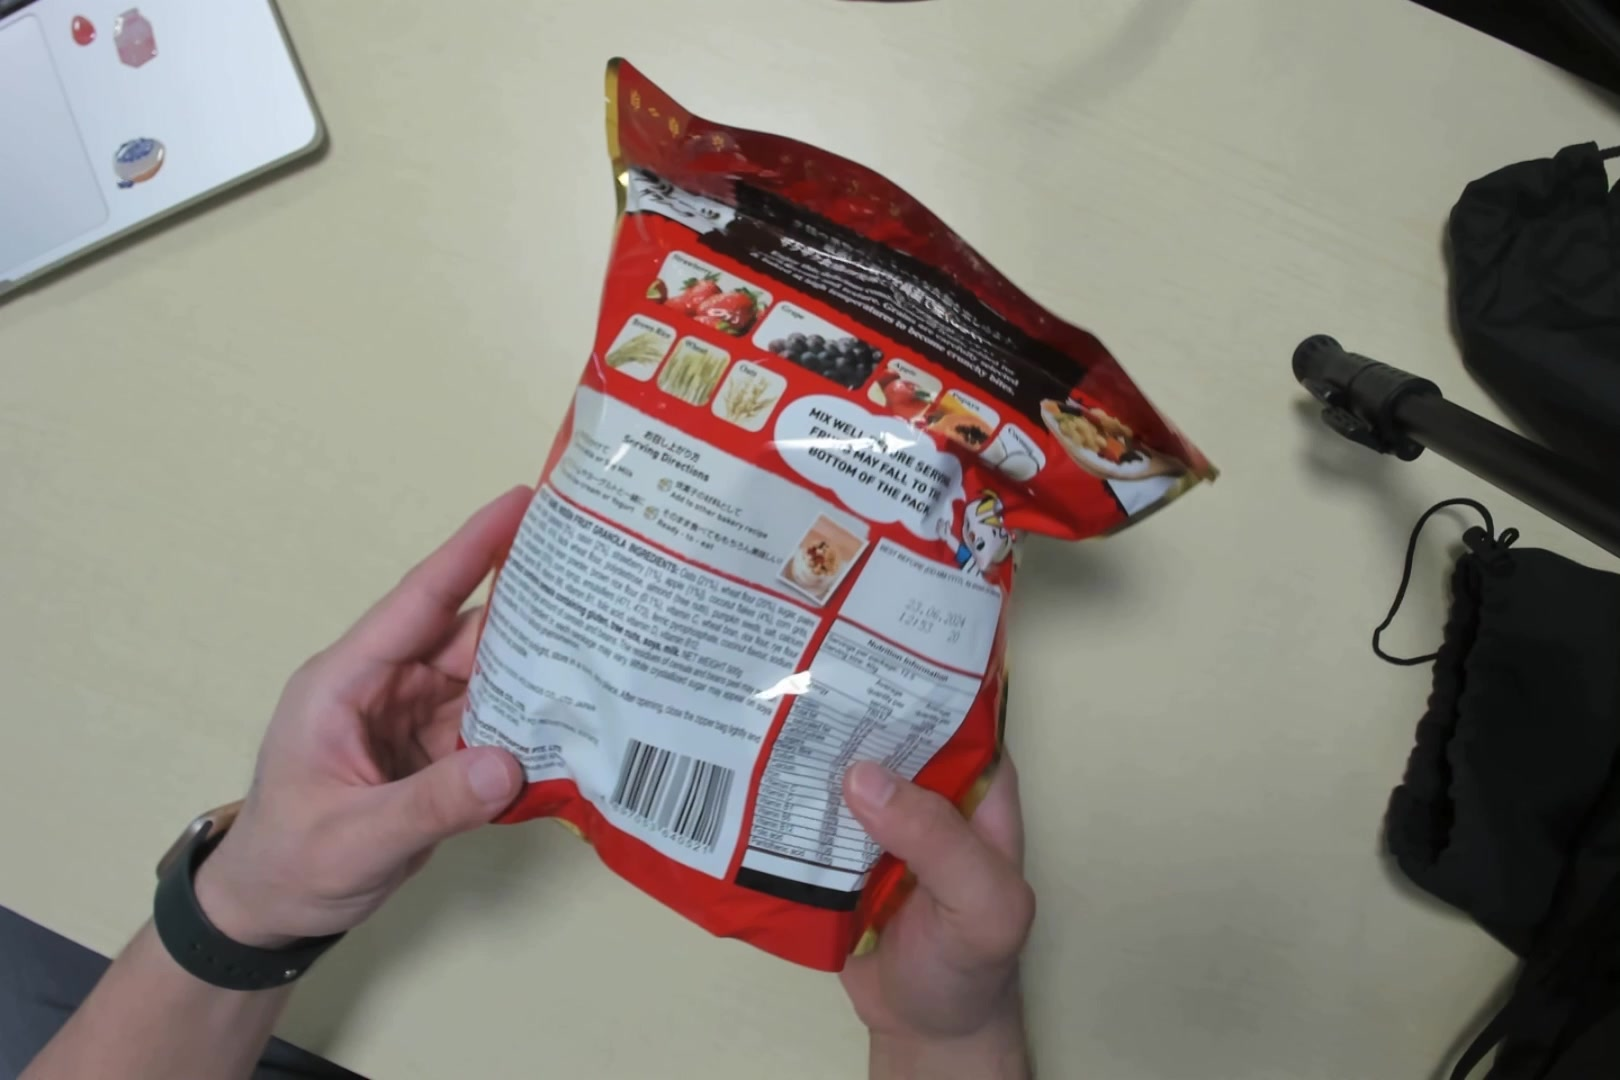BreakfastCereals_300-399g_NonHalal_NonHealthy: (470, 136, 1154, 944)
